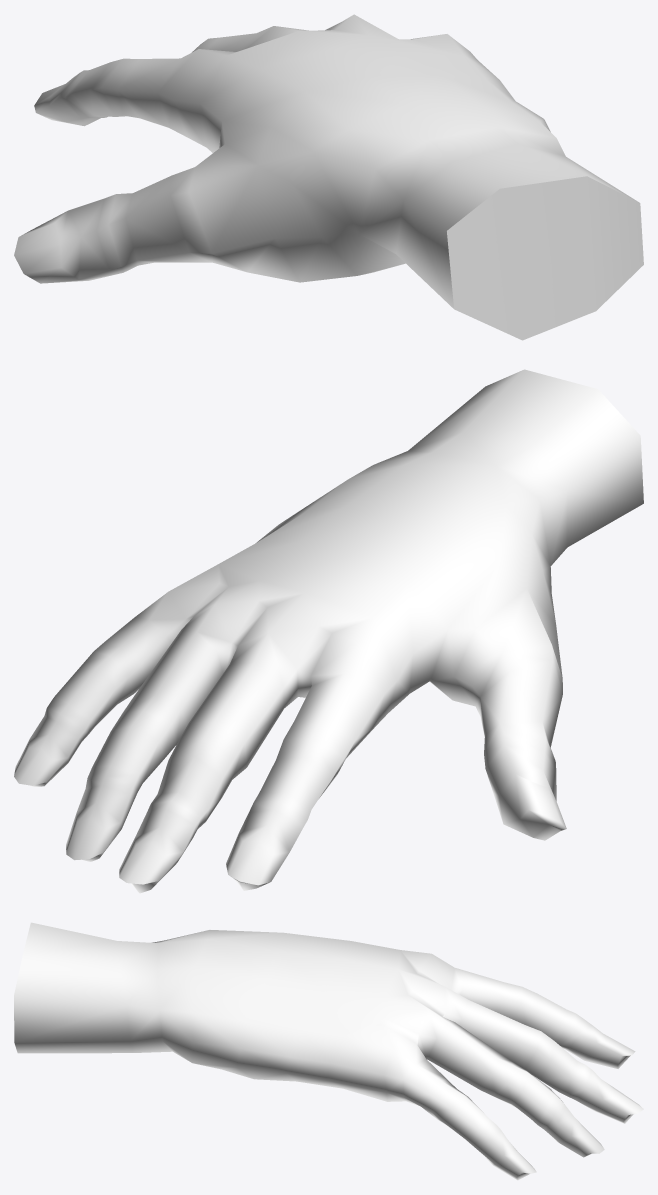
Rendered from HandRightEmpty.dae.
The picture shows the model from 3 angles, top to bottom: view 1: azimuth 30°, elevation 25°; view 2: azimuth 150°, elevation 25°; view 3: azimuth 270°, elevation 25°; orthographic projection. The views are drawn at different scales.
Visible parts, largest first — view 1: Plane006; view 2: Plane006; view 3: Plane006.
Part boxes in pixels (x1,y1,x2,y2): Plane006: (14,14,643,340); Plane006: (14,369,643,893); Plane006: (14,922,643,1180).
Bounding box in the file's own units: 10.64 × 5.17 × 16.19.
